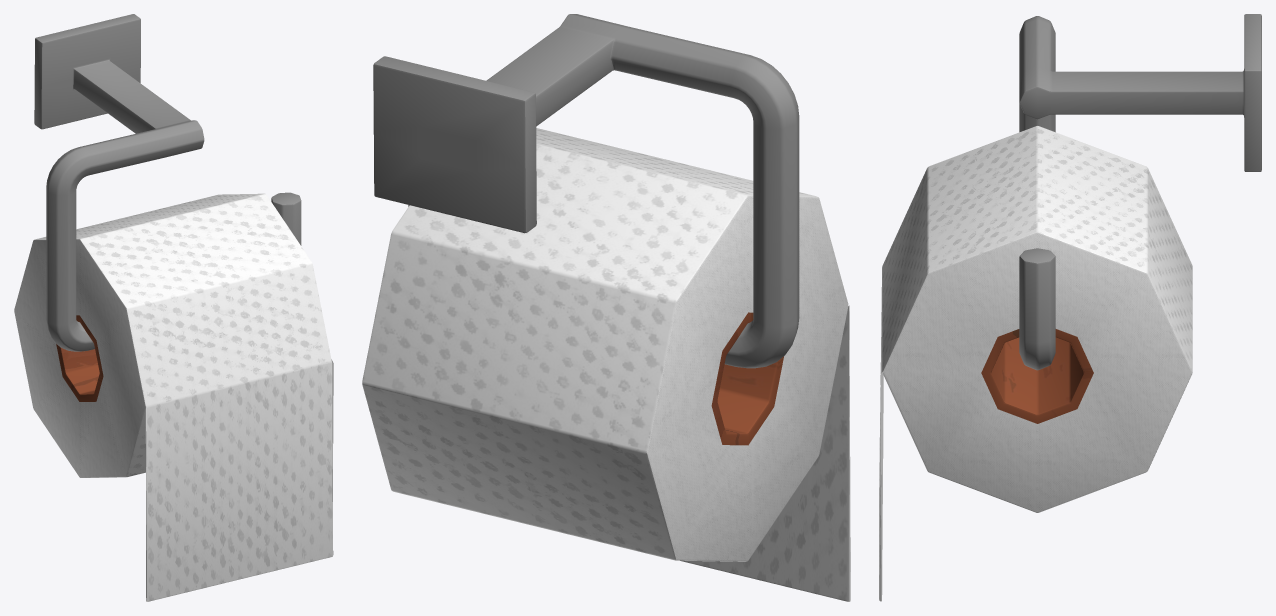
Rendered from Toilet_Roll.fbx.
3 renders of one model, left to right at view 1: azimuth 30°, elevation 25°; view 2: azimuth 150°, elevation 25°; view 3: azimuth 270°, elevation 25°, orthographic. The views are drawn at different scales.
Parts seen in each view (by area): view 1: Toilet Paper, Line001; view 2: Toilet Paper, Line001; view 3: Toilet Paper, Line001.
Boxes of the visible parts, x1,y1,x2,y2 form: Toilet Paper: (14, 193, 333, 601); Line001: (34, 14, 301, 351); Toilet Paper: (362, 128, 850, 601); Line001: (373, 14, 799, 368); Toilet Paper: (879, 126, 1192, 601); Line001: (1019, 14, 1261, 370).
Bounding box in the file's own units: 45.55 × 74.93 × 50.95.
Materials: 3 (2 with a texture image).
